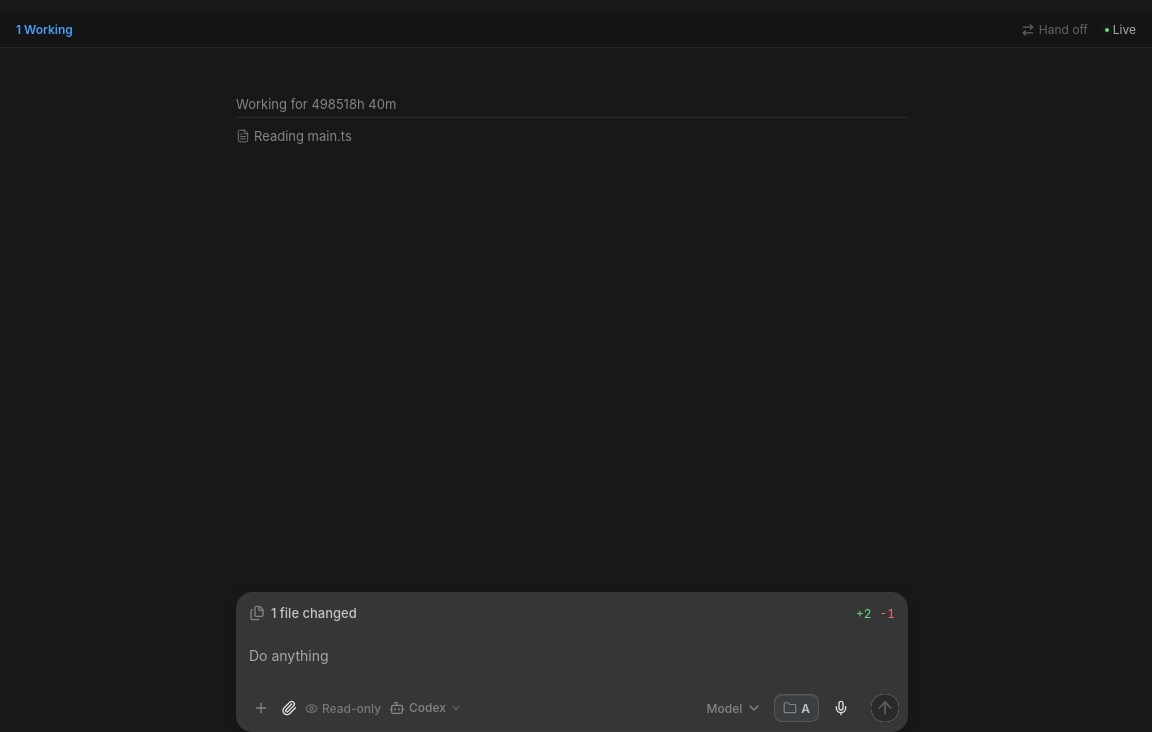
it: ChatSurface ACP resource integration › keeps the draft and reports an error when queue persistence fails
Type "Keep this" into the dropdown named "Message agent".
click(572, 662); type("Keep this")  # box left=237, top=633, right=907, bottom=691
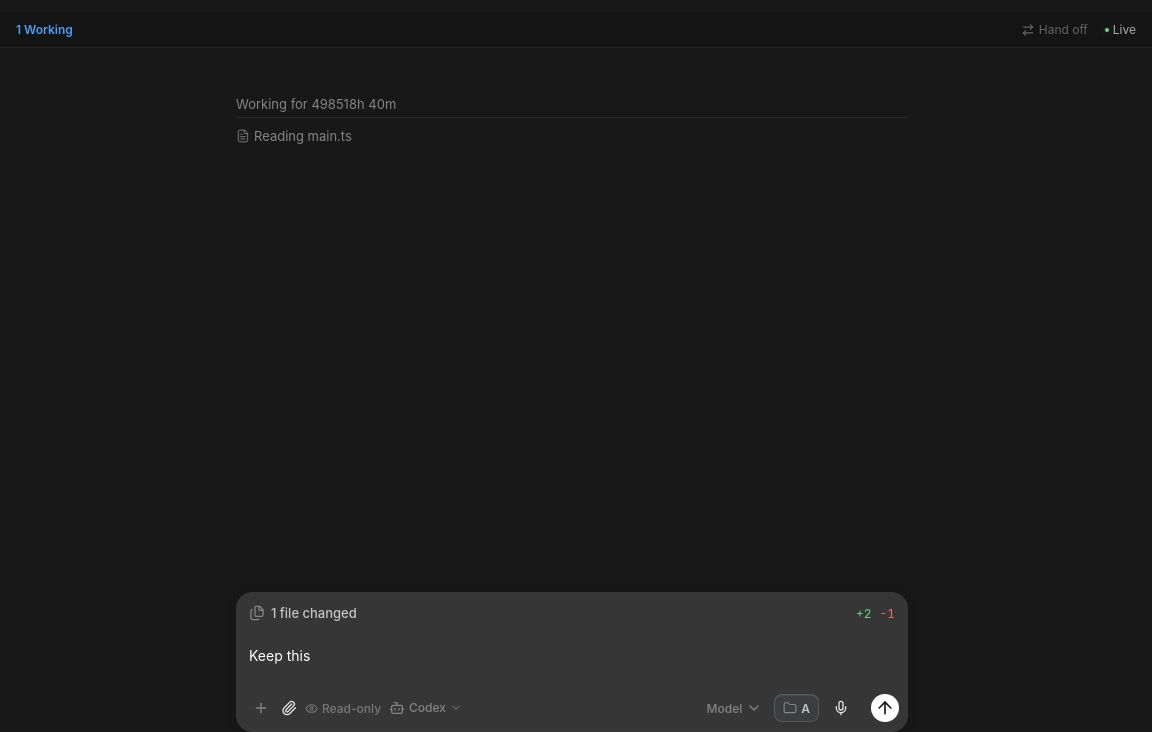
Click the button named "Queue message".
click(885, 708)  # box left=871, top=694, right=899, bottom=722
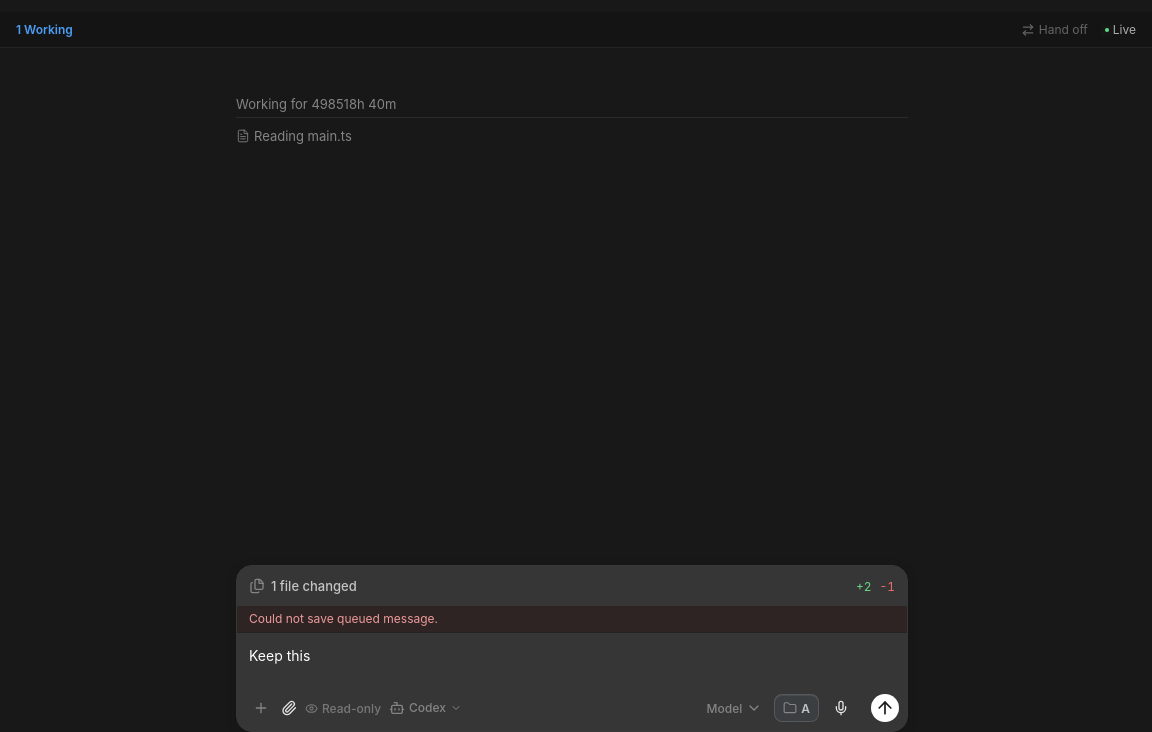
Expected: the text "Could not save queued message." is shown, left=237, top=606, right=907, bottom=633
